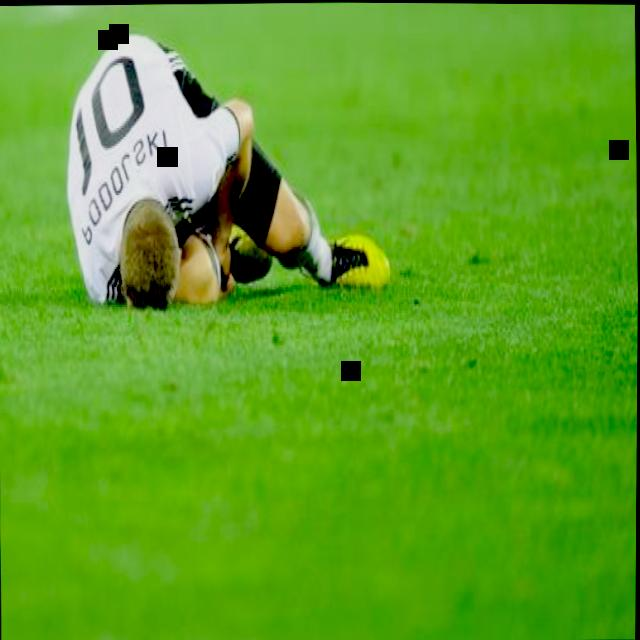Fall-Detected: (55, 10, 386, 318)
